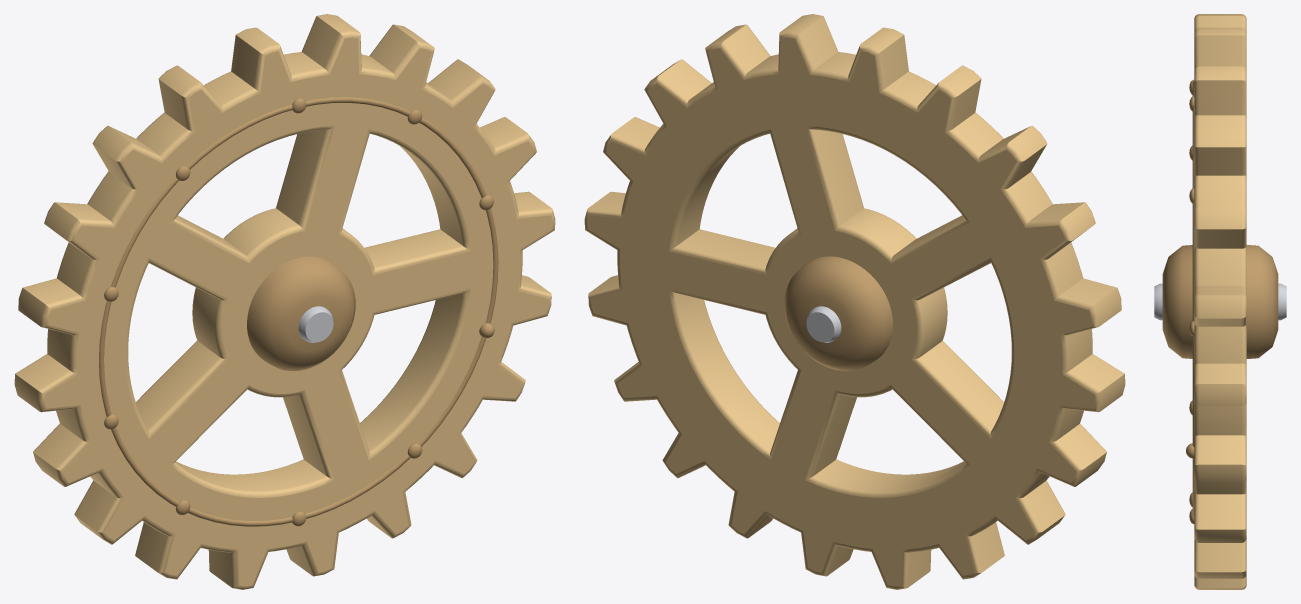
File: gear.glb
3 renders of one model, left to right at view 1: azimuth 30°, elevation 25°; view 2: azimuth 150°, elevation 25°; view 3: azimuth 270°, elevation 25°, orthographic. The views are drawn at different scales.
Visible parts, largest first — view 1: gear, hub, rimring, axle; view 2: gear, hub, axle; view 3: gear, hub, rimring, axle.
Boxes of the visible parts, x1,y1,x2,y2 form: gear: (14,14,555,589); hub: (247,256,355,371); rimring: (99,97,498,526); axle: (298,306,333,342); gear: (584,14,1125,589); hub: (784,256,892,371); axle: (806,306,841,342); gear: (1194,14,1246,589); hub: (1162,245,1278,358); rimring: (1192,81,1194,516); axle: (1154,283,1286,320).
Size of the model in its own units: 2.03 by 2.03 by 0.47.
